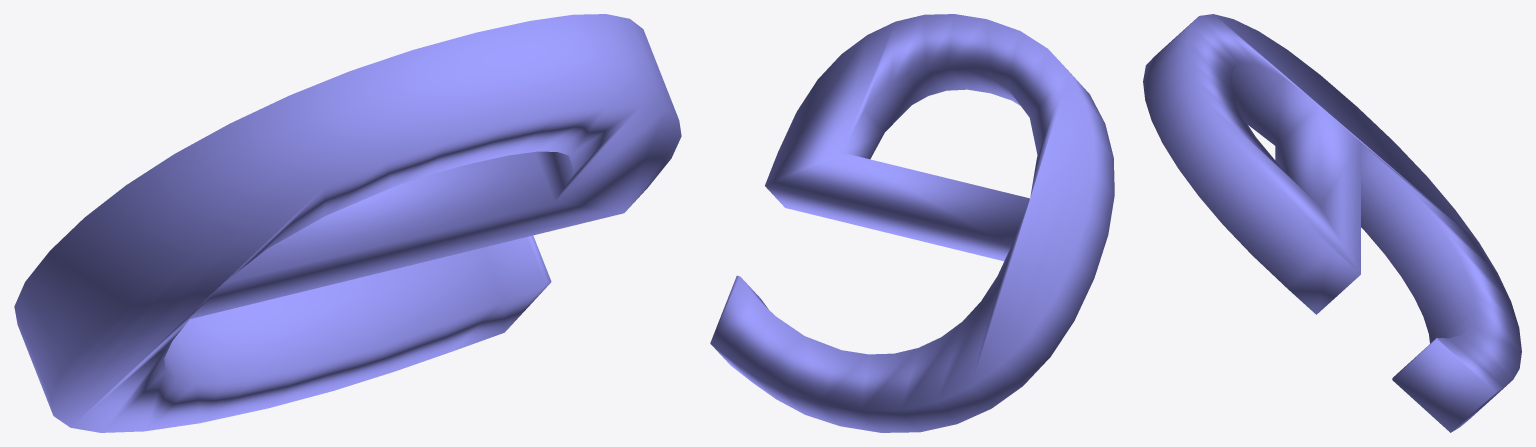
Rendered from original-9.obj.
The picture shows the model from 3 angles, left to right: view 1: azimuth 30°, elevation 25°; view 2: azimuth 150°, elevation 25°; view 3: azimuth 270°, elevation 25°; orthographic projection. The views are drawn at different scales.
Parts seen in each view (by area): view 1: mesh7/mesh7-geometry#mesh7-geometry; view 2: mesh7/mesh7-geometry#mesh7-geometry; view 3: mesh7/mesh7-geometry#mesh7-geometry.
Part boxes in pixels (left/top/right/bottom): mesh7/mesh7-geometry#mesh7-geometry: left=14, top=14, right=681, bottom=432; mesh7/mesh7-geometry#mesh7-geometry: left=710, top=14, right=1114, bottom=432; mesh7/mesh7-geometry#mesh7-geometry: left=1143, top=14, right=1521, bottom=432.
Bounding box in the file's own units: 0.0629 × 0.0613 × 0.0613.
